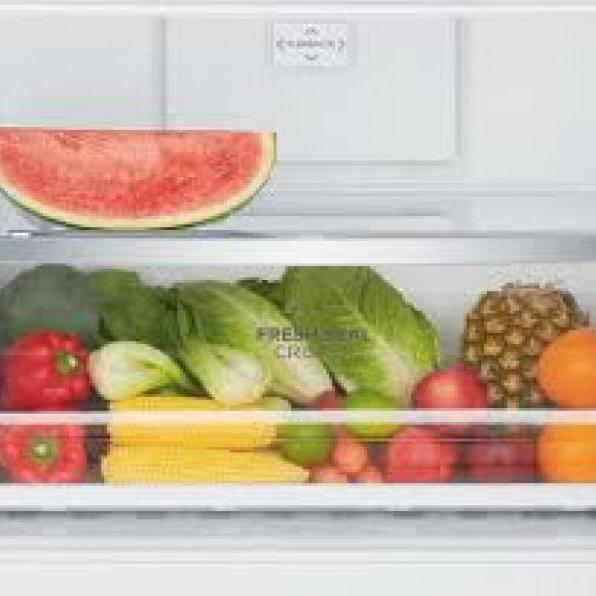peppers: (0, 324, 111, 490)
